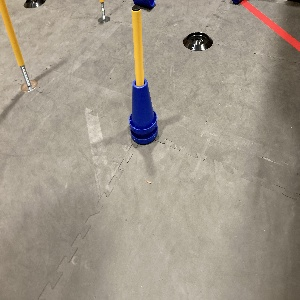Blue_2: (125, 77, 162, 146)
